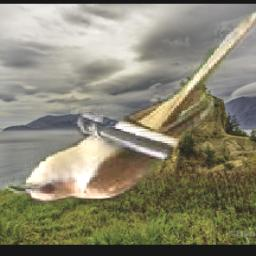Cuckoo: (6, 8, 256, 205)
